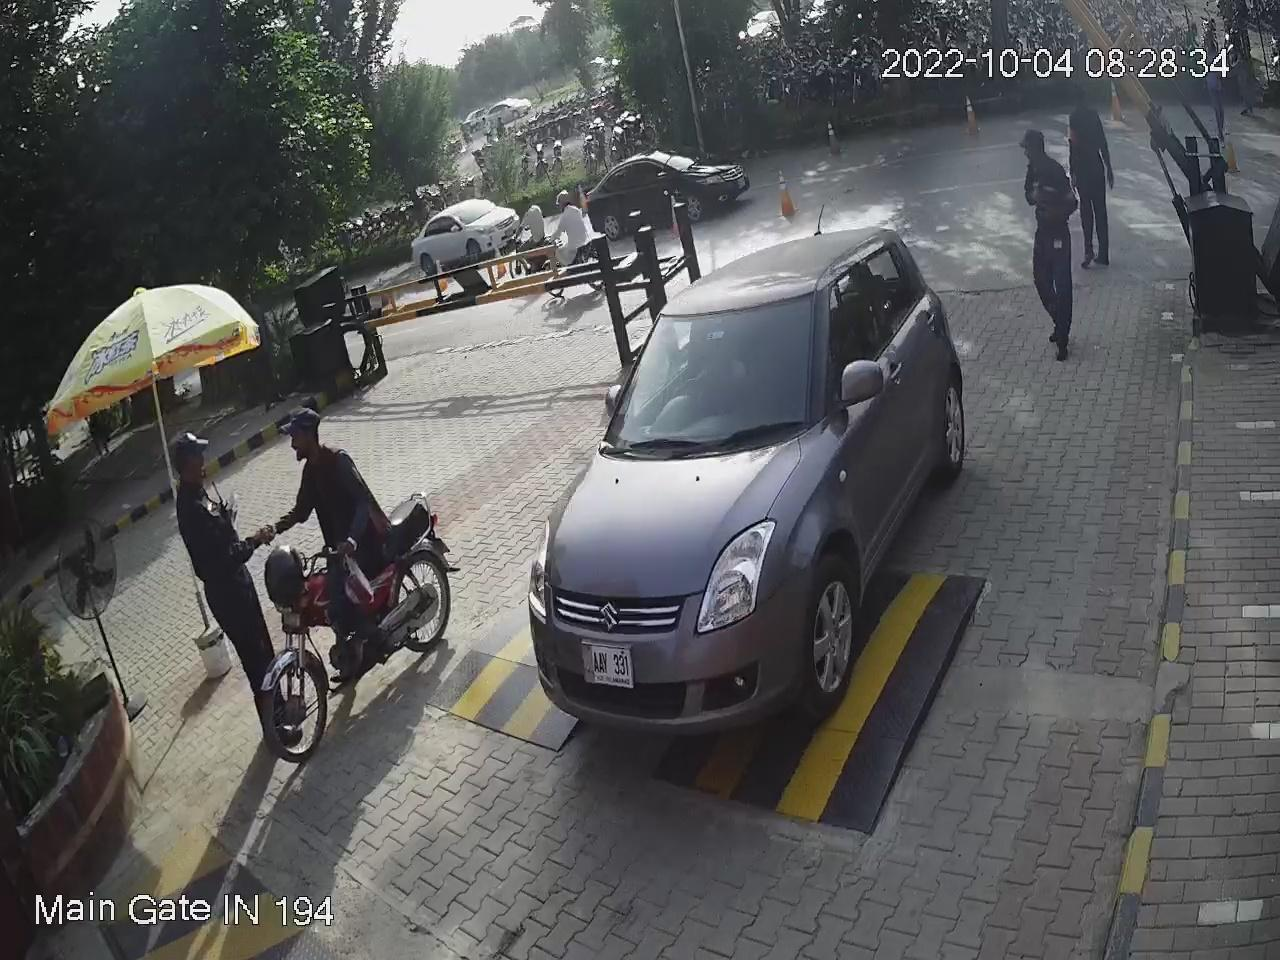windshield: (598, 290, 825, 460)
